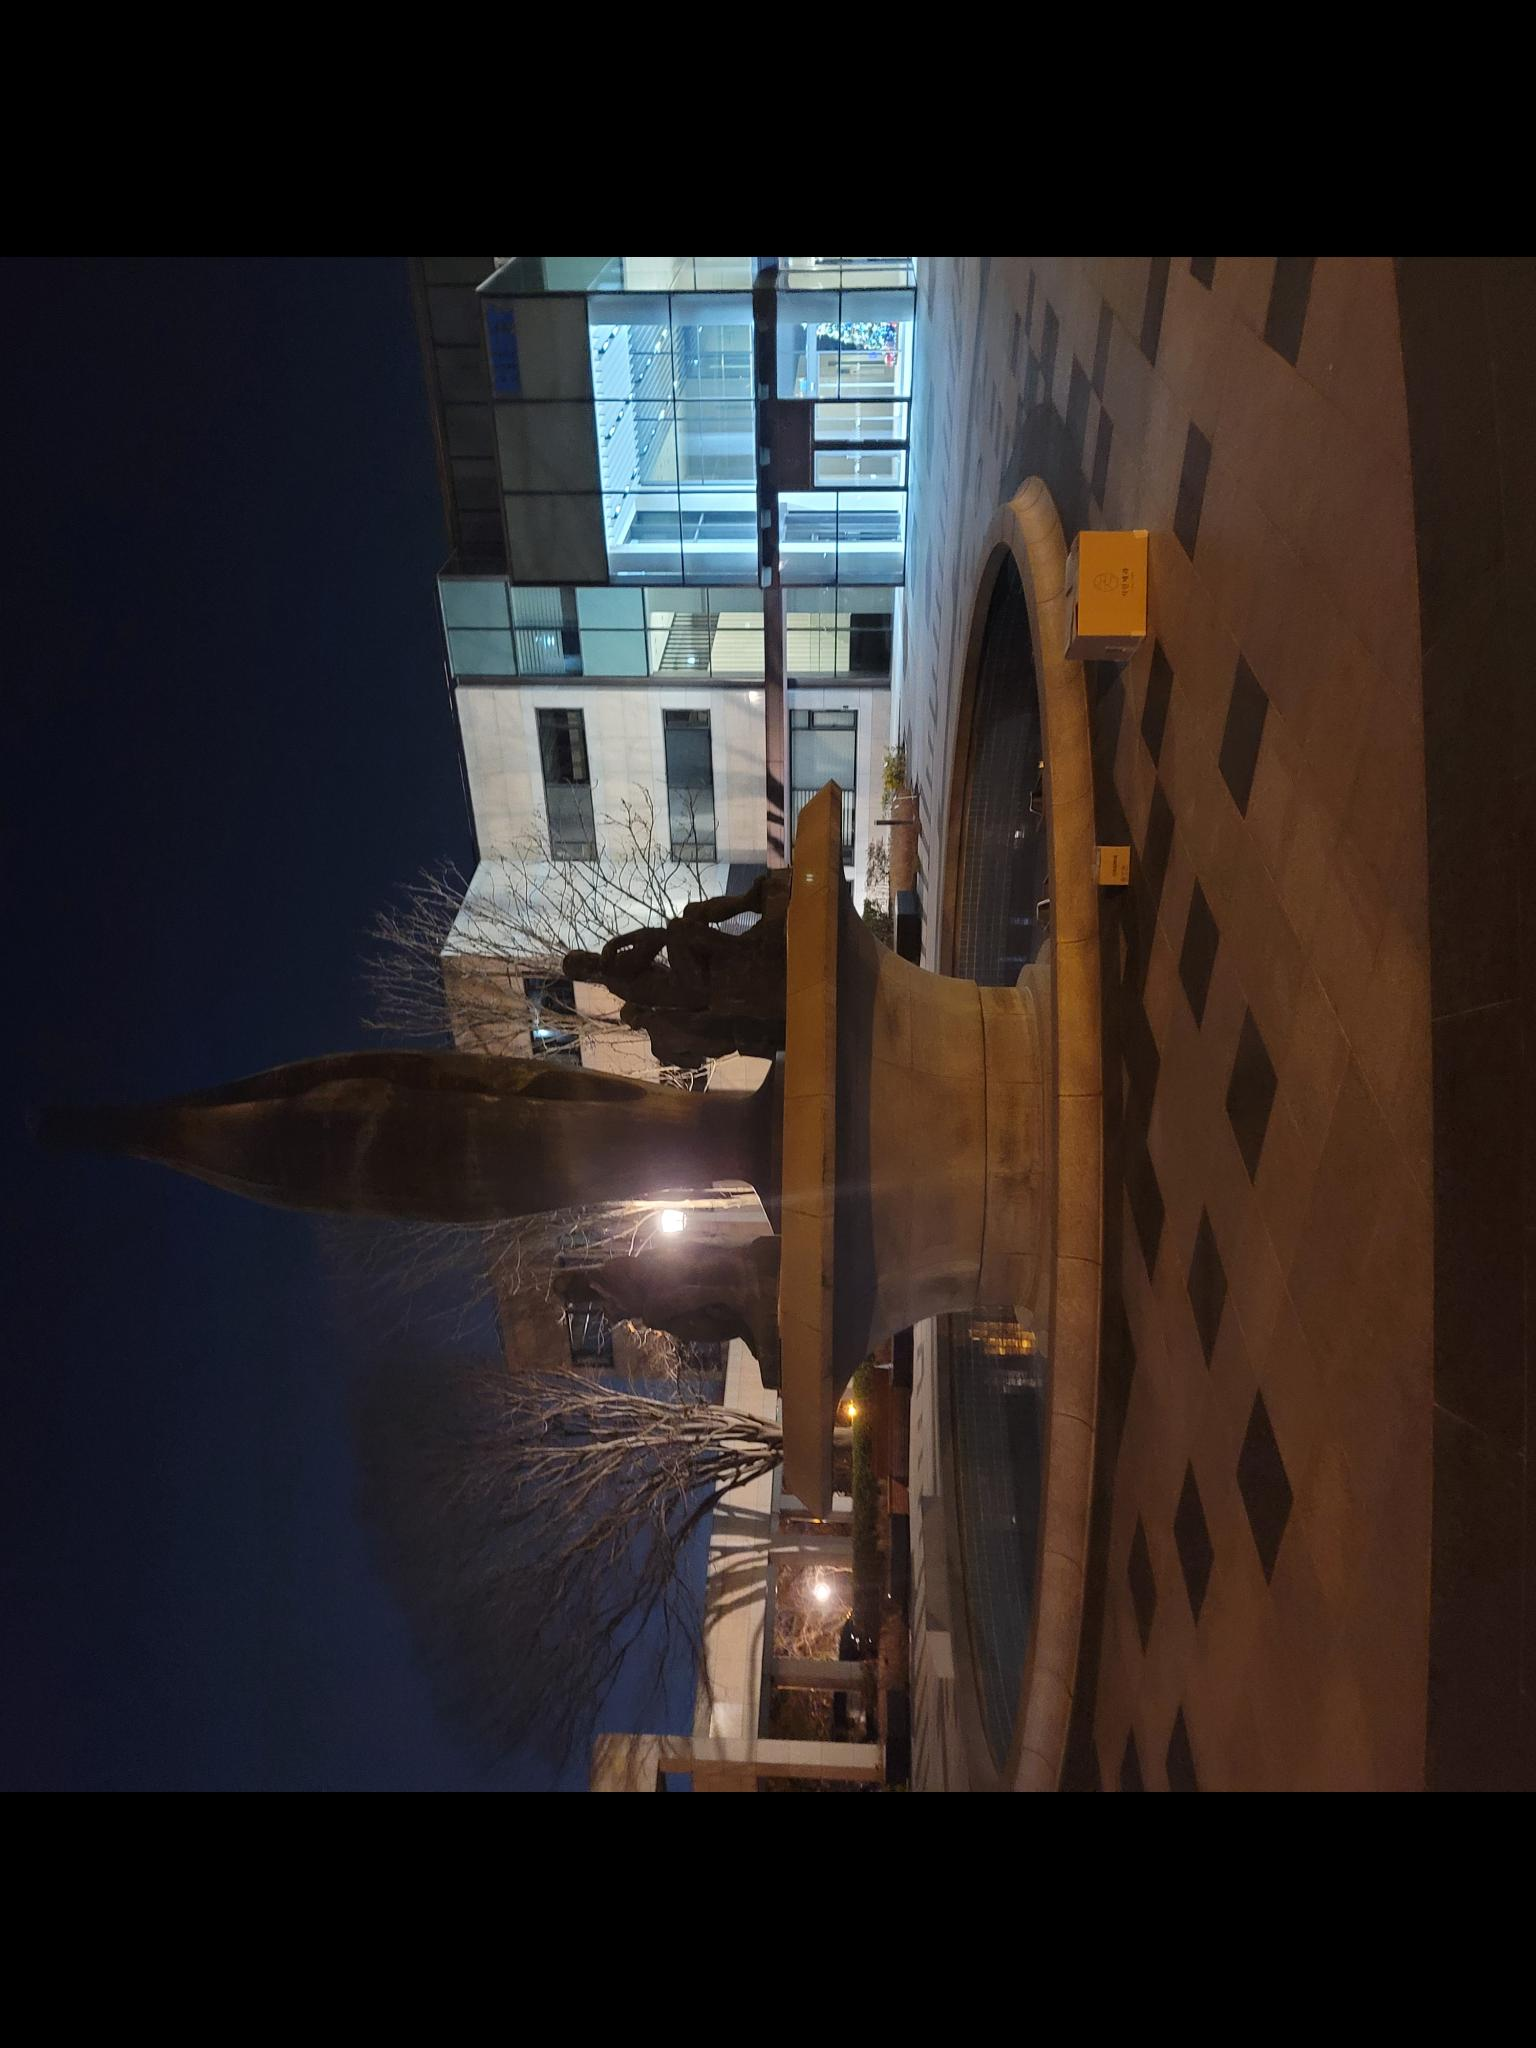Box: (1050, 513, 1152, 679), (1086, 829, 1134, 895)
